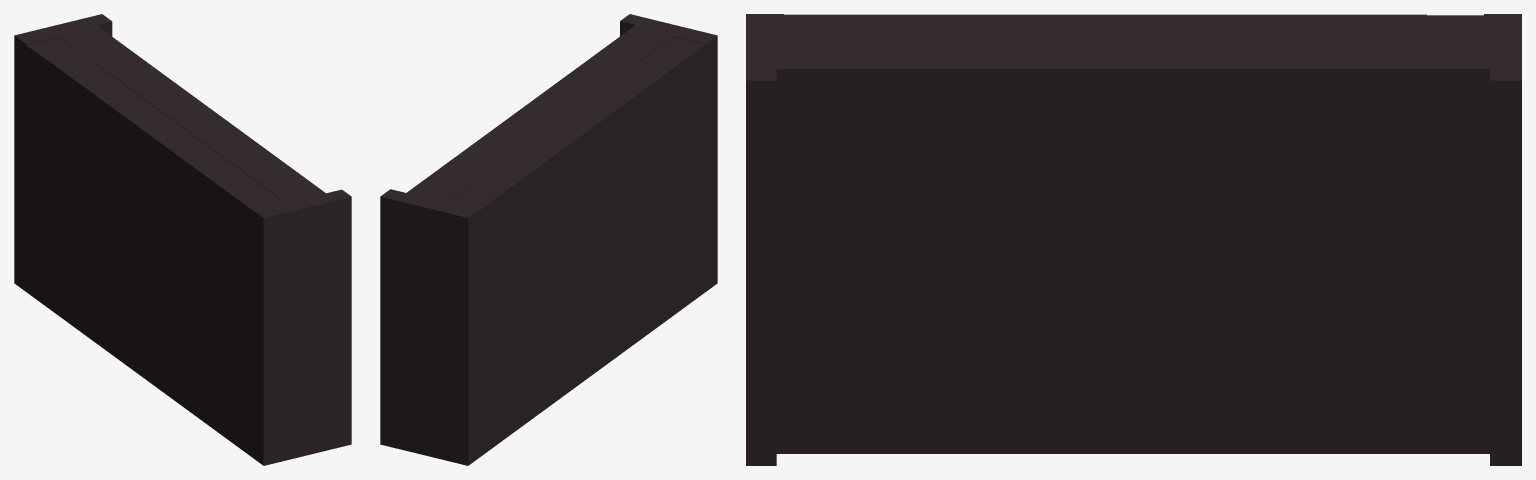
The model's file is backwall.fbx.
3 renders of one model, left to right at view 1: azimuth 30°, elevation 25°; view 2: azimuth 150°, elevation 25°; view 3: azimuth 270°, elevation 25°, orthographic. The views are drawn at different scales.
Parts seen in each view (by area): view 1: backwall.002; view 2: backwall.002; view 3: backwall.002.
Boxes of the visible parts, x1=… form: backwall.002: x1=14, y1=14, x2=351, y2=465; backwall.002: x1=380, y1=14, x2=717, y2=465; backwall.002: x1=746, y1=14, x2=1521, y2=465.
Size of the model in its own units: 940 by 2531 by 4619.
